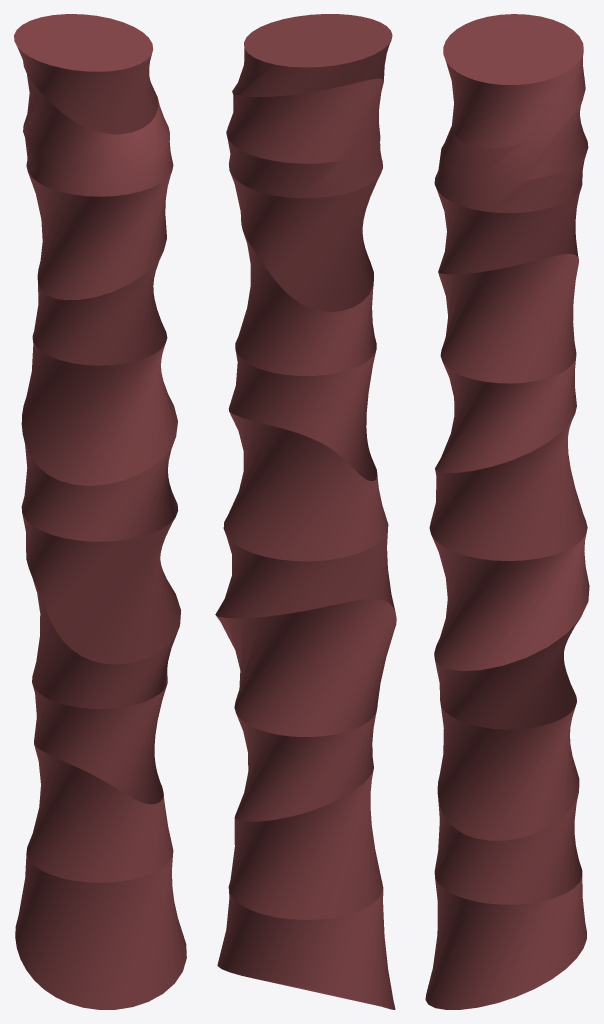
Rendered from log.fbx.
3 views of the same model, side by side, from view 1: azimuth 30°, elevation 25°; view 2: azimuth 150°, elevation 25°; view 3: azimuth 270°, elevation 25° (orthographic). The views are drawn at different scales.
Parts seen in each view (by area): view 1: Cylinder; view 2: Cylinder; view 3: Cylinder.
Boxes of the visible parts, box(x1,y1,x2,y2) form: Cylinder: box(14, 14, 186, 1009); Cylinder: box(215, 14, 396, 1009); Cylinder: box(425, 14, 589, 1009).
Bounding box in the file's own units: 71.62 × 427 × 66.98.
